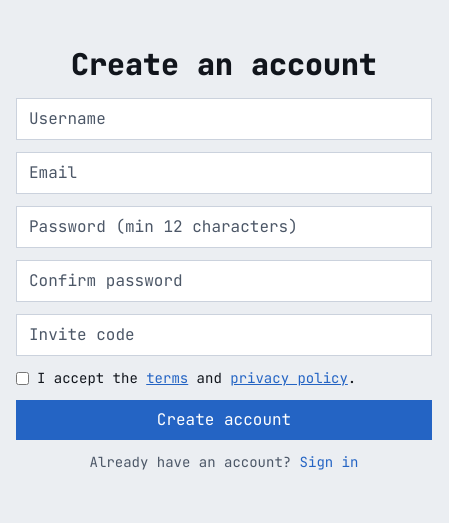
Test: RegisterPage › terms must be accepted
The image size is (449, 523).
Type "newuser" into the field with placeholder "Username" at (224, 119), box [16,98,432,140]
Type "new@example.com" into the field with placeholder "Email" at (224, 173), box [16,152,432,194]
Type "longpassword12" into the password field with placeholder "Password (min 12 characters)" at (224, 227), box [16,206,432,248]
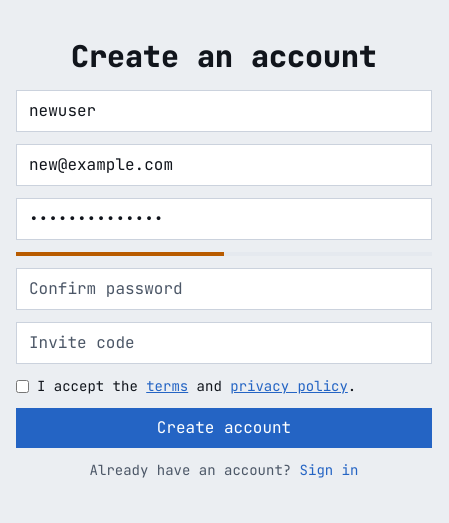
Type "longpassword12" into the password field with placeholder "Confirm password" at (224, 289), box [16,268,432,310]
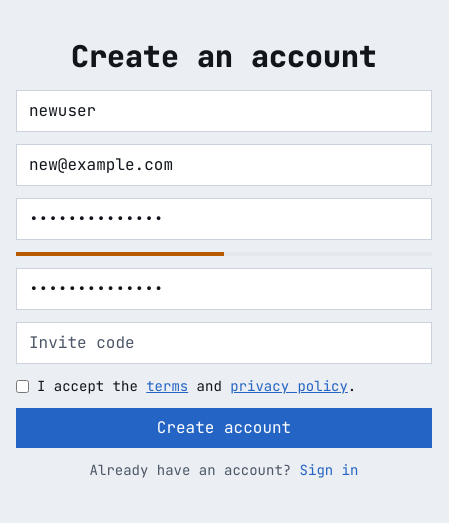
Type "abc123" into the field with placeholder "Invite code" at (224, 343), box [16,322,432,364]
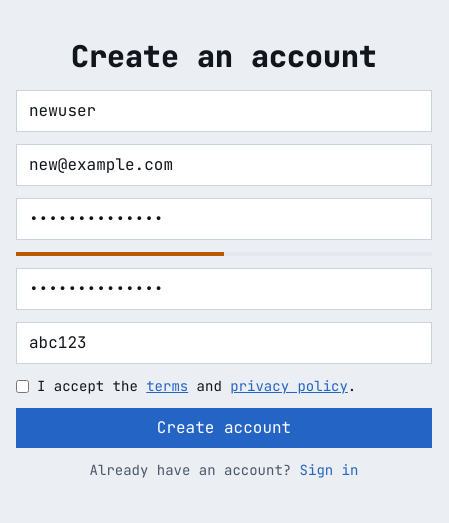
Click the checkbox at (22, 386), box [16,380,29,393]
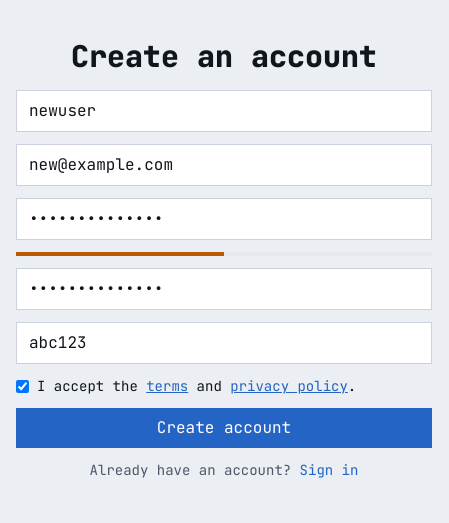
Click the checkbox at (22, 386), box [16,380,29,393]
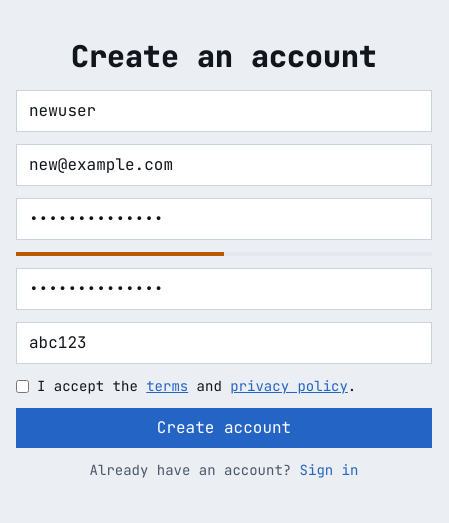
Click the button "Create account" at (224, 428), box [16,408,432,448]
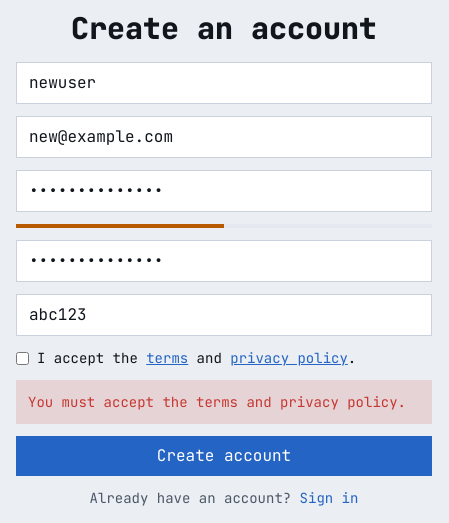
expect the text "You must accept the terms and privacy policy." is shown: met, box [16,380,432,424]
